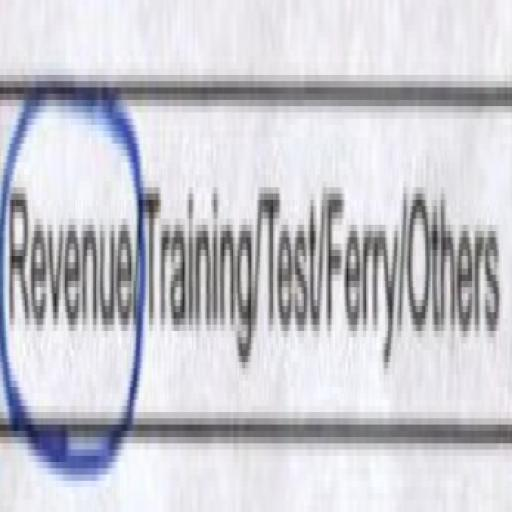check: (0, 37, 145, 512)
